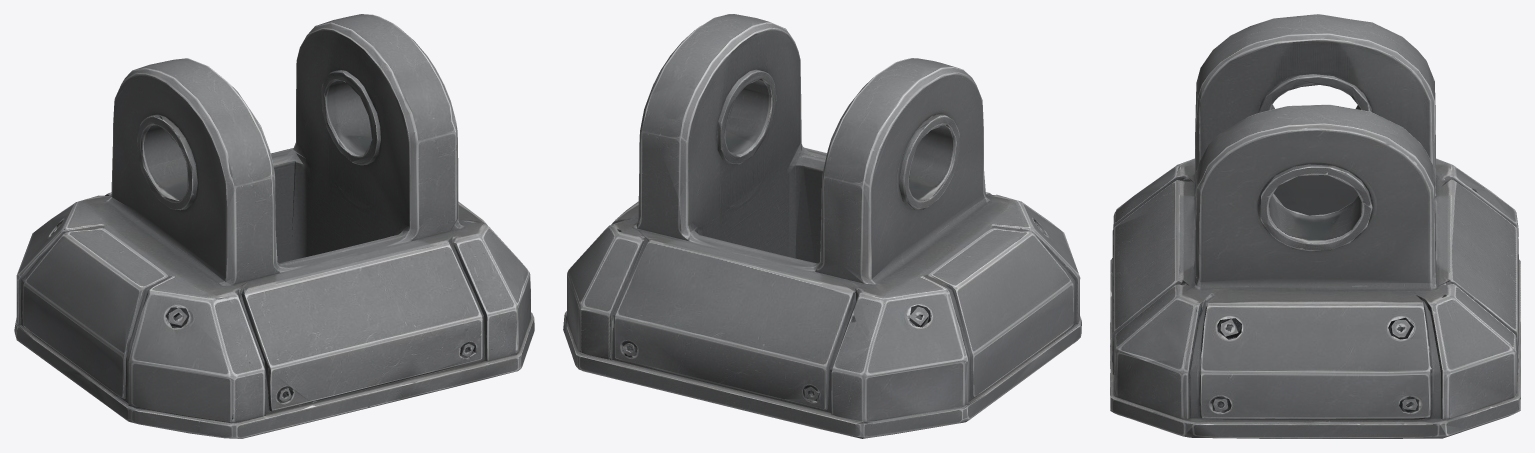
File: shared_flak_tower_large_option__radar_azimuth_yoke.glb
3 renders of one model, left to right at view 1: azimuth 30°, elevation 25°; view 2: azimuth 150°, elevation 25°; view 3: azimuth 270°, elevation 25°, orthographic.
Parts seen in each view (by area): view 1: mesh_node; view 2: mesh_node; view 3: mesh_node.
Part boxes in pixels (x1,y1,x2,y2): mesh_node: (14, 14, 534, 438); mesh_node: (563, 14, 1081, 438); mesh_node: (1110, 14, 1520, 438).
Bounding box in the file's own units: 0.9754 × 0.6471 × 0.8589.
1 material, 1 textured.
